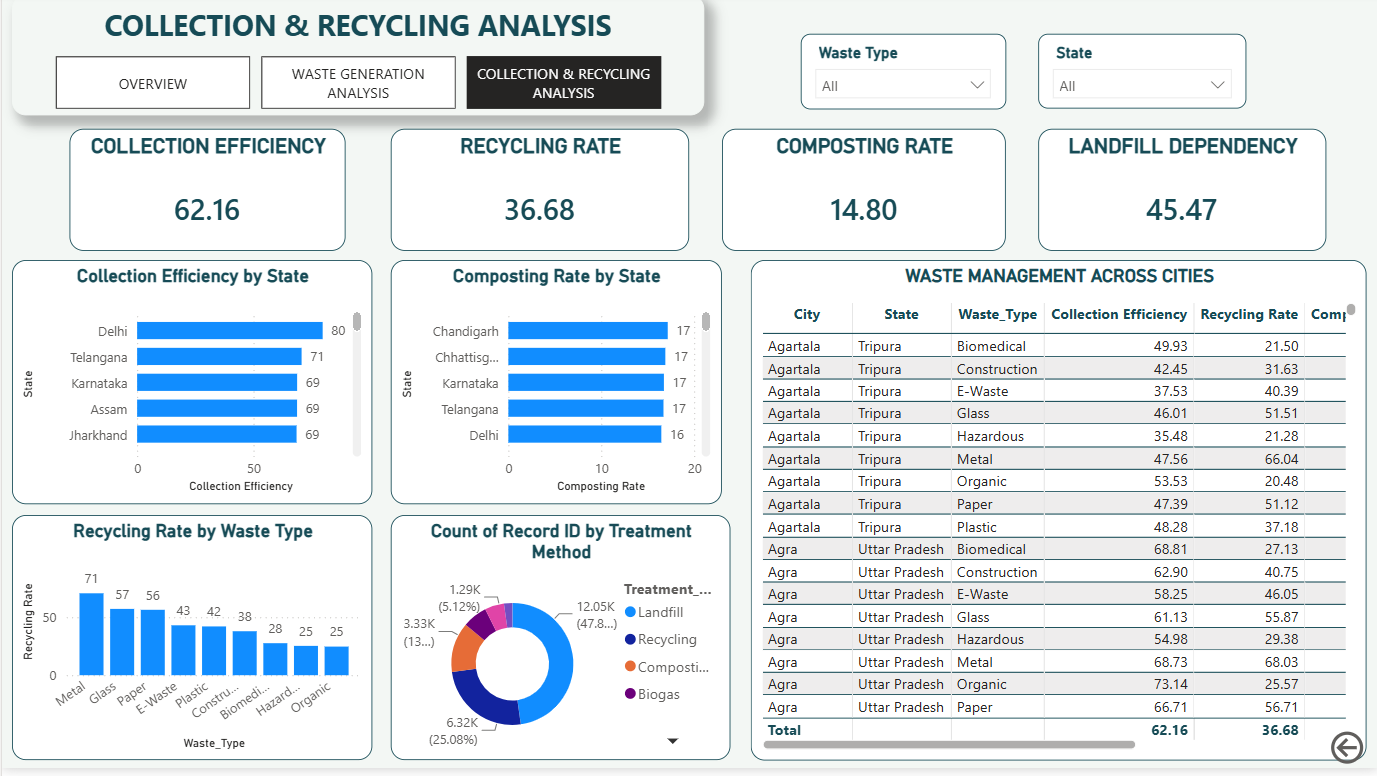

Layout of this report page (visuals, bound fields, positions):
{"tool":"powerbi","page":{"name":"COLLECTION & RECYCLING ANALYSIS","canvas":[1280,720],"ordinal":2},"visuals":[{"type":"textbox","box":[9.7,0,644.2,112.2],"z":0},{"type":"cardVisual","title":"COLLECTION EFFICIENCY","fields":{"Data":["DateTable.Collection Efficiency"]},"box":[62.7,124.3,257,113.4],"z":1000},{"type":"cardVisual","title":"RECYCLING RATE","fields":{"Data":["DateTable.Recycling Rate"]},"box":[361.9,124.3,277.5,113.4],"z":2000},{"type":"cardVisual","title":"COMPOSTING RATE","fields":{"Data":["DateTable.Composting Rate"]},"box":[669.6,124.3,264.2,113.4],"z":3000},{"type":"cardVisual","title":"LANDFILL DEPENDENCY","fields":{"Data":["DateTable.Landfill Dependency"]},"box":[963.9,124.3,267.8,113.4],"z":4000},{"type":"barChart","fields":{"Category":["waste_management wsql.State"],"Y":["DateTable.Collection Efficiency"]},"box":[9.7,246.1,335.4,226.8],"z":5000},{"type":"columnChart","title":"Recycling Rate by Waste Type","fields":{"Category":["waste_management wsql.Waste_Type"],"Y":["DateTable.Recycling Rate"]},"box":[9.7,483.8,335.4,228],"z":6000},{"type":"barChart","fields":{"Category":["waste_management wsql.State"],"Y":["DateTable.Composting Rate"]},"box":[361.9,246.1,307.6,226.8],"z":7000},{"type":"donutChart","title":"Count of Record ID by Treatment Method","fields":{"Category":["waste_management wsql.Treatment_Method"],"Y":["CountNonNull(waste_management wsql.Record_ID)"]},"box":[361.9,483.8,316.1,228],"z":8000},{"type":"tableEx","title":"WASTE MANAGEMENT ACROSS CITIES","fields":{"Values":["waste_management wsql.City","waste_management wsql.State","waste_management wsql.Waste_Type","DateTable.Collection Efficiency","DateTable.Recycling Rate","DateTable.Composting Rate","Sum(waste_management wsql.Landfill_Dependency_Rate)"]},"box":[696.1,246.1,573.1,465.7],"z":9000},{"type":"actionButton","box":[1231.8,680.4,48.3,39.8],"z":10000},{"type":"slicer","fields":{"Values":["waste_management wsql.Waste_Type"]},"box":[743.2,36.2,190.8,70.4],"z":11000},{"type":"slicer","fields":{"Values":["waste_management wsql.State"]},"box":[963.9,36.2,193.5,69.4],"z":12000},{"type":"pageNavigator","box":[49.5,56.7,563.4,49.5],"z":13000}]}

Visuals, with their boxes in screenshot pixels (x1, y1, x2, y2), scaled from the page's 1280x720 canvas onto the 1377x776 screenshot:
textbox: (10,0,703,121)
"COLLECTION EFFICIENCY" cardVisual: (67,134,344,256)
"RECYCLING RATE" cardVisual: (389,134,688,256)
"COMPOSTING RATE" cardVisual: (720,134,1005,256)
"LANDFILL DEPENDENCY" cardVisual: (1037,134,1325,256)
barChart - waste_management wsql.State x DateTable.Collection Efficiency: (10,265,371,510)
"Recycling Rate by Waste Type" columnChart: (10,521,371,767)
barChart - waste_management wsql.State x DateTable.Composting Rate: (389,265,720,510)
"Count of Record ID by Treatment Method" donutChart: (389,521,729,767)
"WASTE MANAGEMENT ACROSS CITIES" tableEx: (749,265,1365,767)
actionButton: (1325,733,1376,775)
slicer - waste_management wsql.Waste_Type: (800,39,1005,115)
slicer - waste_management wsql.State: (1037,39,1245,114)
pageNavigator: (53,61,659,114)
